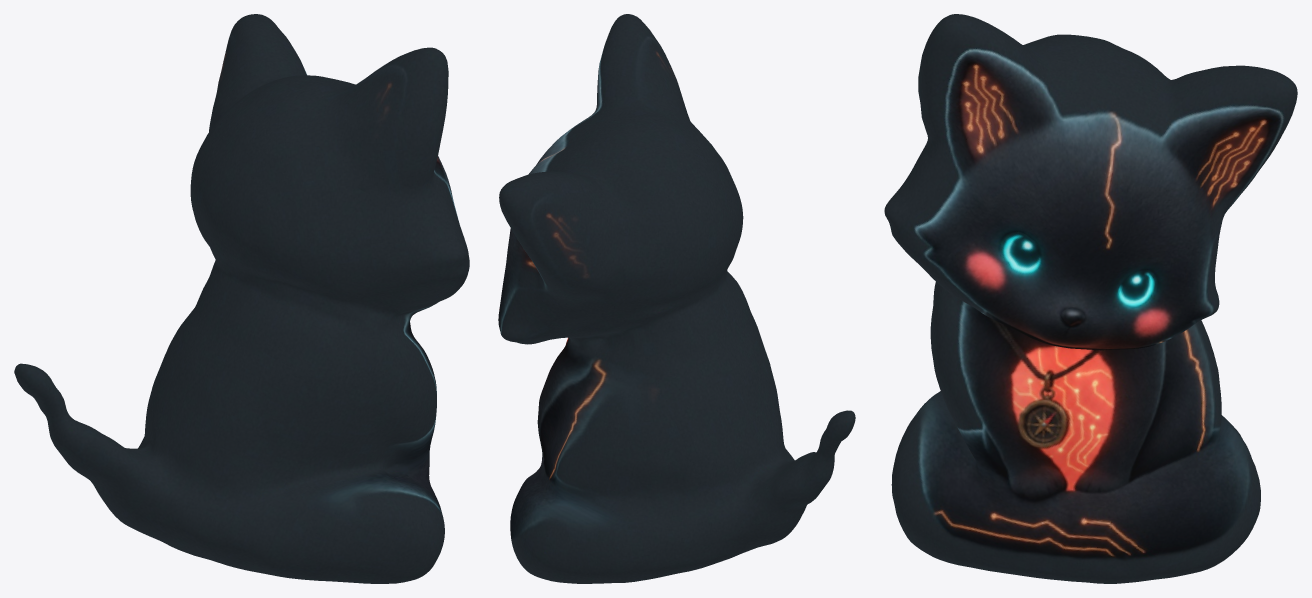
The model's file is circuit-fox-80d07a250094.glb.
3 views of the same model, side by side, from view 1: azimuth 30°, elevation 25°; view 2: azimuth 150°, elevation 25°; view 3: azimuth 270°, elevation 25° (orthographic). The views are drawn at different scales.
Visible parts, largest first — view 1: fox original design reconstruction; view 2: fox original design reconstruction; view 3: fox original design reconstruction.
Part boxes in pixels (x1,y1,x2,y2): fox original design reconstruction: [14, 14, 469, 583]; fox original design reconstruction: [498, 14, 855, 583]; fox original design reconstruction: [884, 14, 1297, 583].
Size of the model in its own units: 0.8023 by 1.01 by 0.6684.
1 material, 1 textured.
